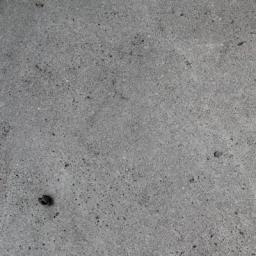FOD: (38, 189, 57, 214)
